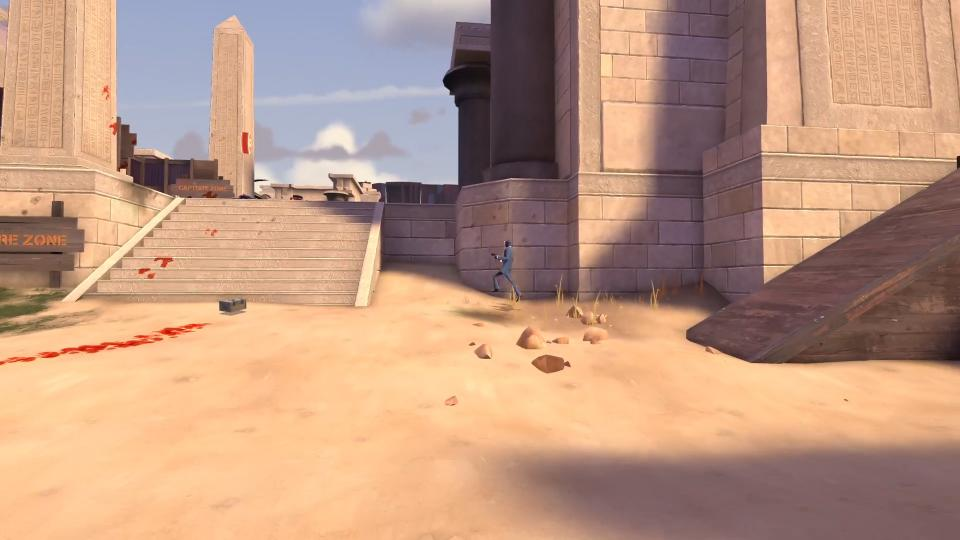Enemy: (491, 240, 522, 299)
